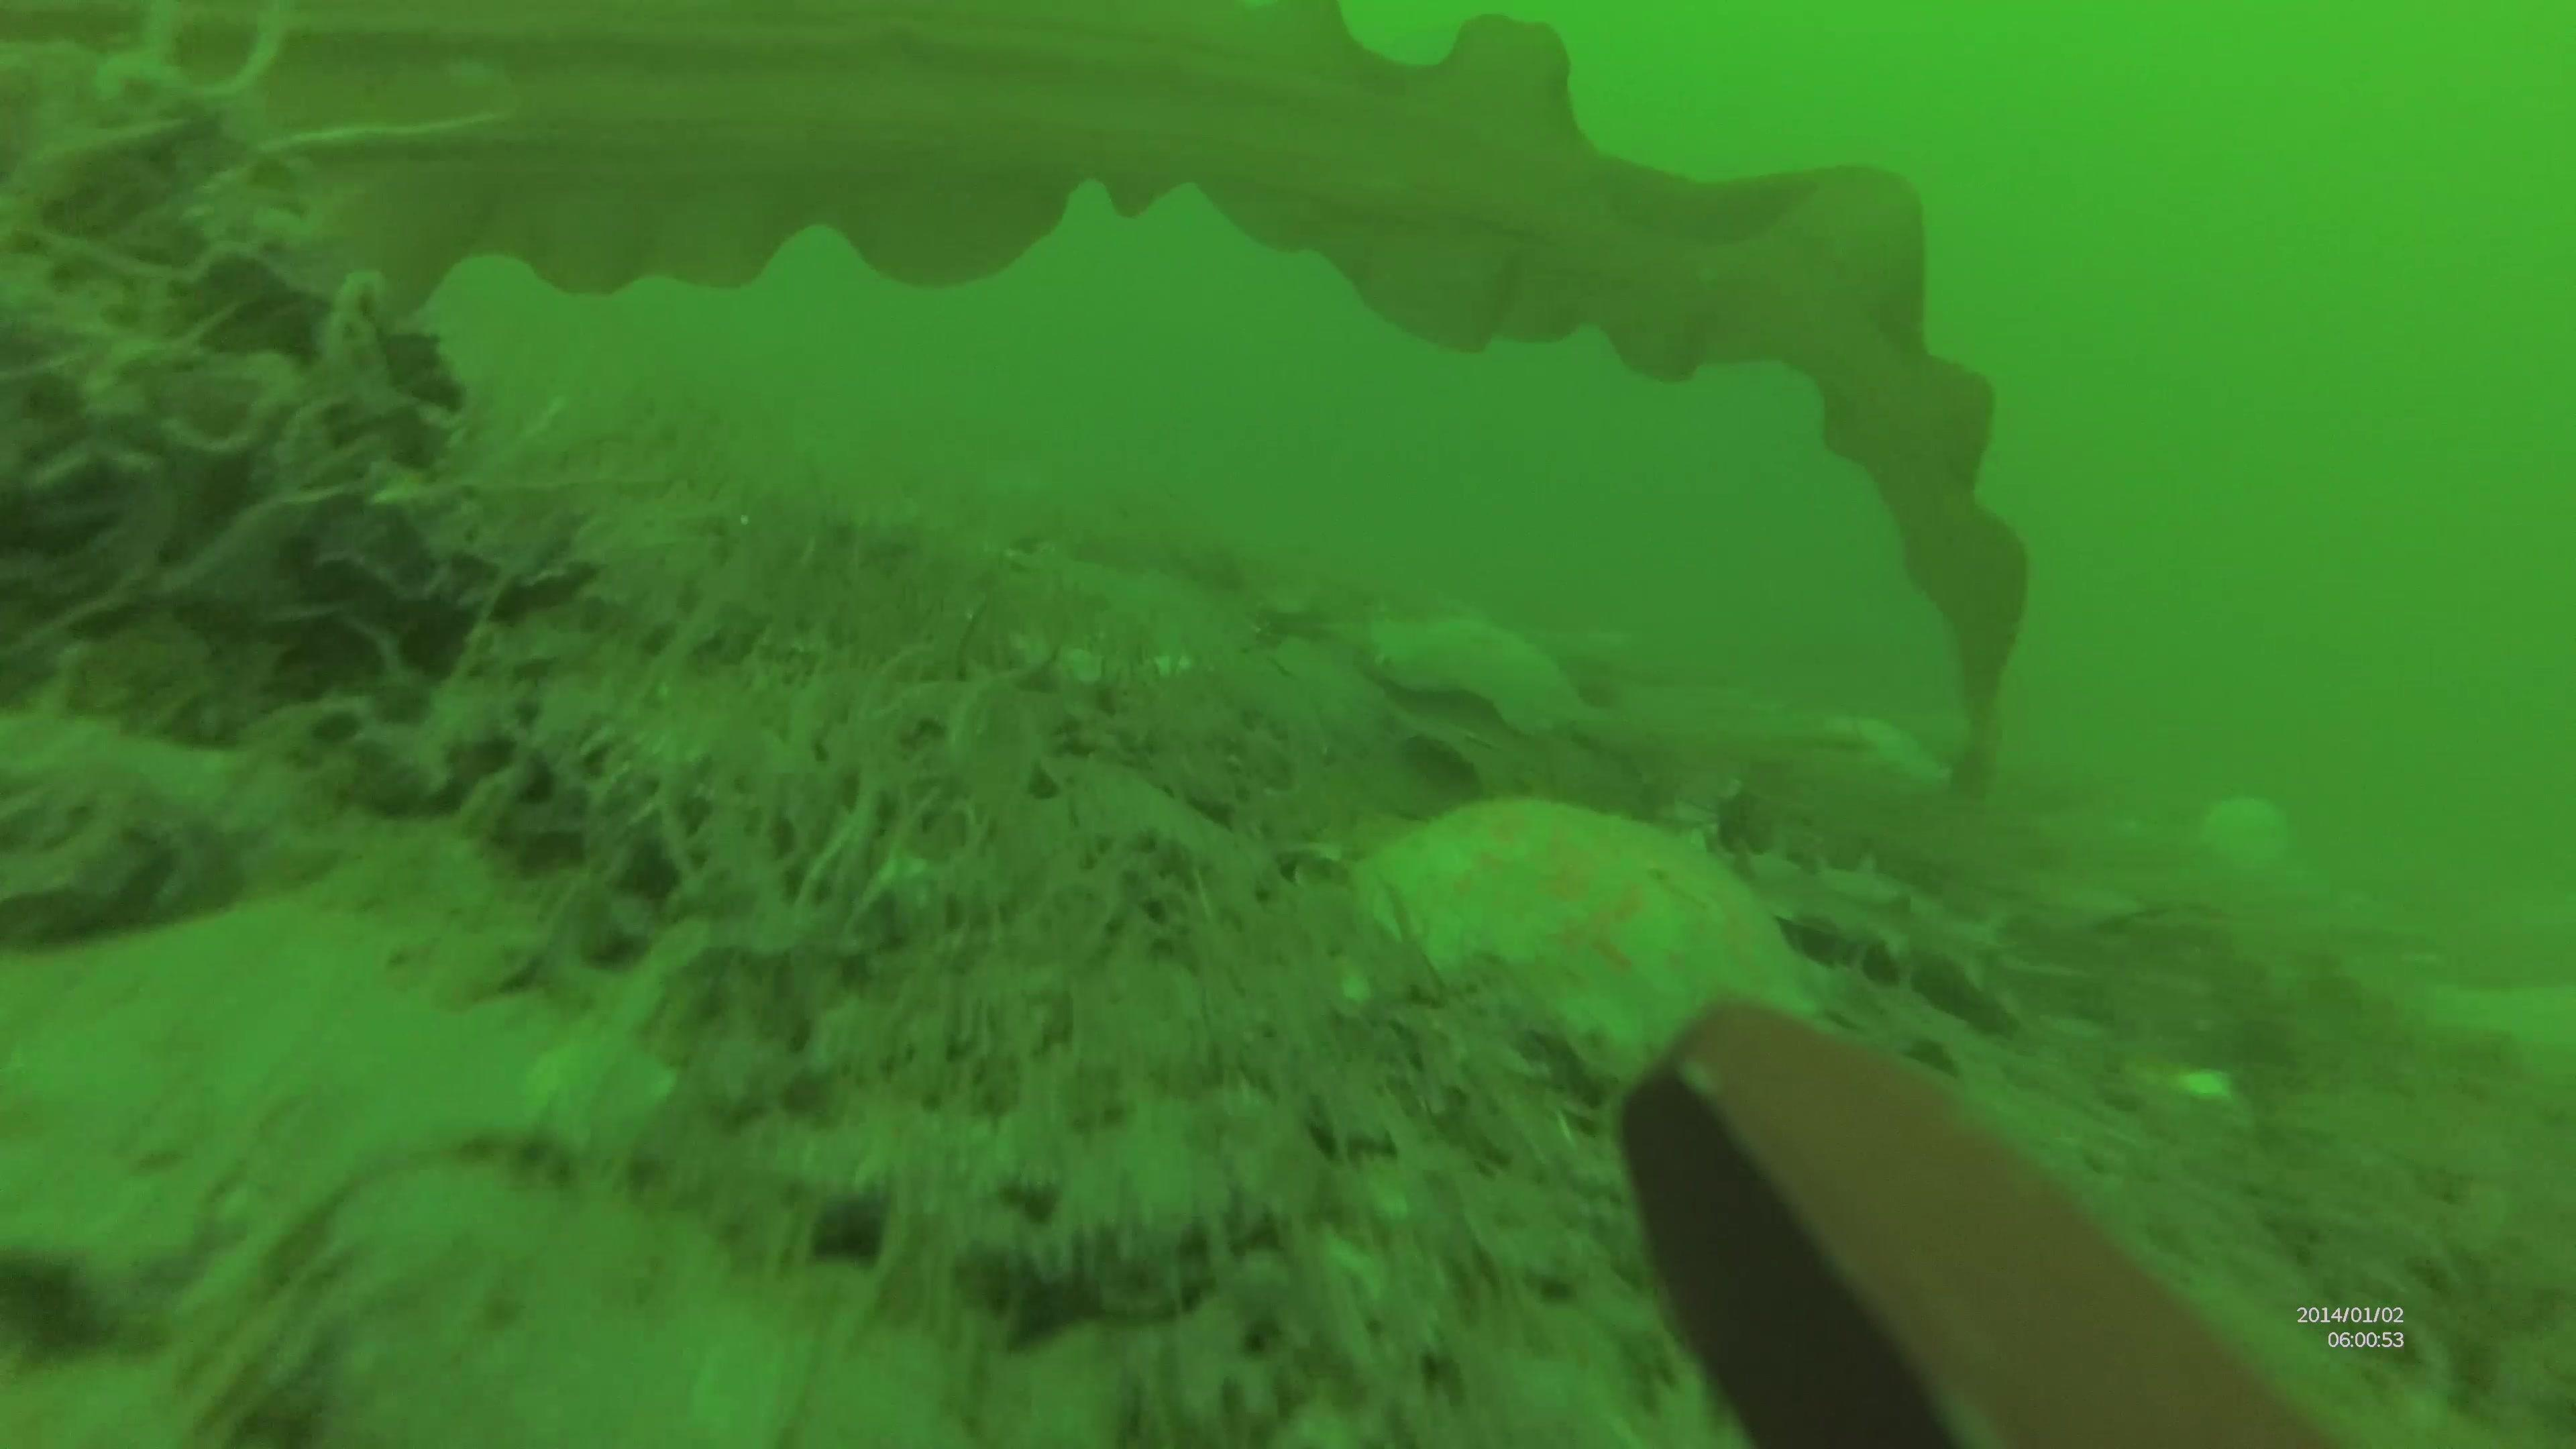holothurian: (1695, 842, 2005, 1012)
starfish: (1362, 798, 1776, 1062), (1353, 605, 1589, 747)
